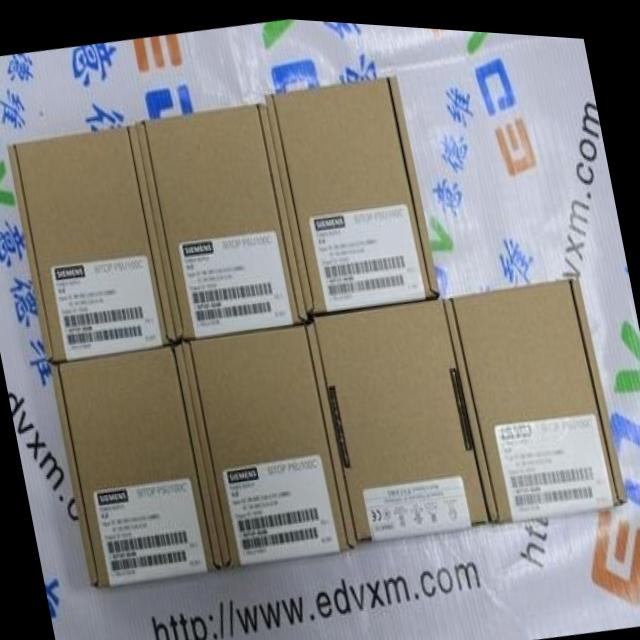box: (311, 293, 500, 535), (450, 272, 628, 519), (182, 319, 358, 564), (263, 70, 442, 310), (50, 341, 223, 586), (137, 99, 309, 340), (7, 123, 177, 363)
